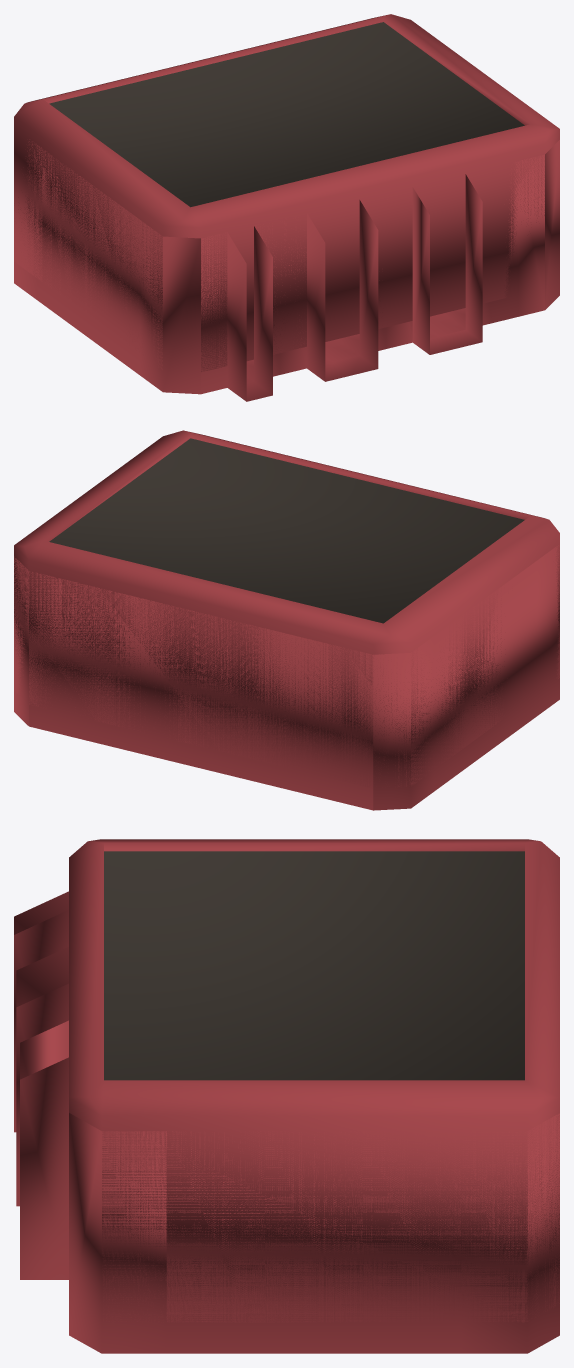
File: hub_red_lvl1.glb
3 views of the same model, one above another, from view 1: azimuth 30°, elevation 25°; view 2: azimuth 150°, elevation 25°; view 3: azimuth 270°, elevation 25° (orthographic). The views are drawn at different scales.
Parts seen in each view (by area): view 1: Cube; view 2: Cube; view 3: Cube.
Part boxes in pixels (<box>): Cube: <box>14,14,559,401</box>; Cube: <box>14,430,559,810</box>; Cube: <box>14,839,559,1353</box>.
Bounding box in the file's own units: 8 × 3.42 × 6.67.
